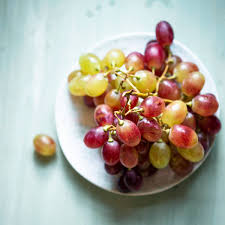Red Grapes: (71, 39, 217, 182)
